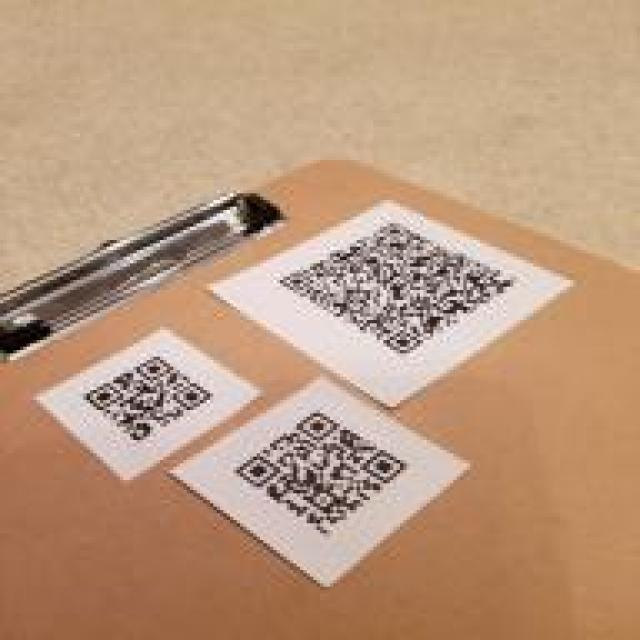qr_code: (280, 217, 515, 355), (233, 411, 409, 538), (83, 356, 213, 443)
